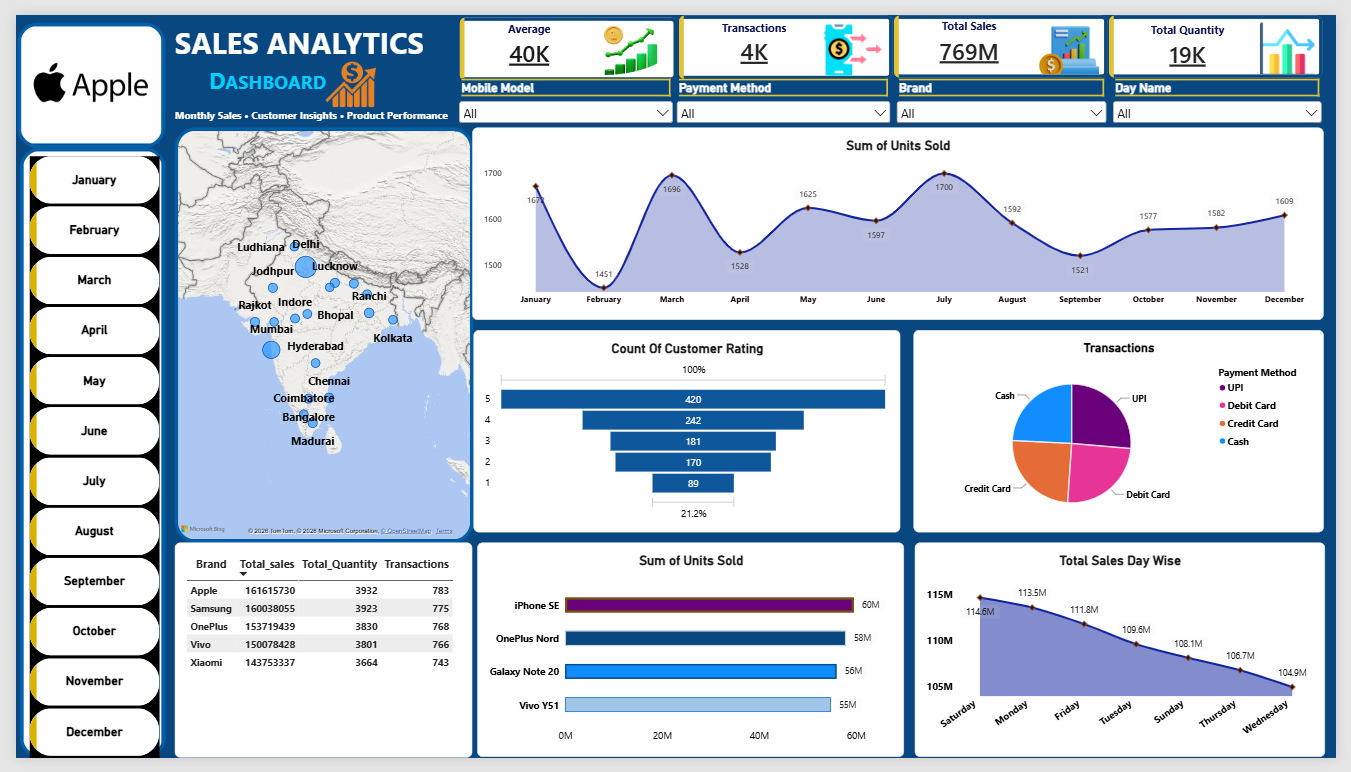

The page's visual inventory and layout, read from the dashboard file:
{"tool":"powerbi","page":{"name":"Page 1","canvas":[1920,1080],"ordinal":0},"visuals":[{"type":"shape","box":[1.7,10,215.4,182],"z":0},{"type":"shape","box":[5,192,212.1,888.3],"z":2000},{"type":"advancedSlicerVisual","fields":{"Values":["Sales_data.Date.Variation.Date Hierarchy.Month"]},"box":[20,205.4,188.7,875],"z":3000},{"type":"cardVisual","fields":{"Data":["Sales_data.Total_sales"]},"box":[1276.4,0,312.7,92.7],"z":4000},{"type":"cardVisual","fields":{"Data":["Sales_data.Total_Quantity"]},"box":[1589.1,0,312.7,92.7],"z":5000},{"type":"cardVisual","fields":{"Data":["Sales_data.Transactions"]},"box":[963.6,0,312.7,94.5],"z":6000},{"type":"cardVisual","fields":{"Data":["Sales_data.Average"]},"box":[643.6,1.8,316.4,92.7],"z":7000},{"type":"map","title":"Total Sales City","fields":{"Category":["Sales_data.City"],"Size":["Sales_data.Total_sales"]},"box":[218,157,434.5,603.6],"z":8000},{"type":"lineChart","title":"Sum of Units Sold ","fields":{"Category":["Sales_data.Date.Variation.Date Hierarchy.Month"],"Y":["Sum(Sales_data.Units Sold)"]},"box":[657.6,164,1238.2,280],"z":9000},{"type":"clusteredBarChart","title":"Sum of Units Sold ","fields":{"Category":["Sales_data.Mobile Model"],"Y":["Sales_data.Total_sales"]},"box":[661,767.4,620.9,312.2],"z":10000},{"type":"pieChart","title":"Transactions","fields":{"Category":["Sales_data.Payment Method"],"Y":["Sales_data.Transactions"]},"box":[1292.4,458.7,610.5,301.7],"z":11000},{"type":"funnel","title":"Count Of Customer Rating","fields":{"Category":["Sales_data.Customer Ratings"],"Y":["CountNonNull(Sales_data.Customer Ratings)"]},"box":[662.8,458.7,620.9,301.7],"z":12000},{"type":"areaChart","title":"Total Sales Day Wise","fields":{"Category":["Sales_data.Day Name"],"Y":["Sales_data.Total_sales"]},"box":[1292.4,767.4,608.7,312.2],"z":13000},{"type":"tableEx","fields":{"Values":["Sales_data.Brand","Sales_data.Total_sales","Sales_data.Total_Quantity","Sales_data.Transactions"]},"box":[219.8,767.4,432.7,312.7],"z":14000},{"type":"slicer","fields":{"Values":["Sales_data.Mobile Model"]},"box":[640,92.7,320,63.6],"z":15000},{"type":"slicer","fields":{"Values":["Sales_data.Payment Method"]},"box":[956.4,92.7,320,63.6],"z":16000},{"type":"slicer","fields":{"Values":["Sales_data.Brand"]},"box":[1276.4,92.7,314.5,63.6],"z":17000},{"type":"slicer","fields":{"Values":["Sales_data.Day Name"]},"box":[1590.9,92.7,312.7,63.6],"z":18000},{"type":"textbox","box":[230.9,10.9,409.1,152.7],"z":19000},{"type":"image","box":[409.1,50.9,156.4,100],"z":20000},{"type":"image","box":[14.5,0,189.1,198.2],"z":20001}]}

Visuals, with their boxes in screenshot pixels (x1, y1, x2, y2), scaled from the page's 1920x1080 canvas onto the 1351x772 screenshot:
shape: box(1, 7, 153, 137)
shape: box(4, 137, 153, 771)
advancedSlicerVisual - Sales_data.Date.Variation.Date Hierarchy.Month: box(14, 147, 147, 771)
cardVisual - Sales_data.Total_sales: box(898, 0, 1118, 66)
cardVisual - Sales_data.Total_Quantity: box(1118, 0, 1338, 66)
cardVisual - Sales_data.Transactions: box(678, 0, 898, 68)
cardVisual - Sales_data.Average: box(453, 1, 676, 68)
"Total Sales City" map: box(153, 112, 459, 544)
"Sum of Units Sold " lineChart: box(463, 117, 1334, 317)
"Sum of Units Sold " clusteredBarChart: box(465, 549, 902, 771)
"Transactions" pieChart: box(909, 328, 1339, 544)
"Count Of Customer Rating" funnel: box(466, 328, 903, 544)
"Total Sales Day Wise" areaChart: box(909, 549, 1338, 771)
tableEx - Sales_data.Brand x Sales_data.Total_sales: box(155, 549, 459, 771)
slicer - Sales_data.Mobile Model: box(450, 66, 676, 112)
slicer - Sales_data.Payment Method: box(673, 66, 898, 112)
slicer - Sales_data.Brand: box(898, 66, 1119, 112)
slicer - Sales_data.Day Name: box(1119, 66, 1339, 112)
textbox: box(162, 8, 450, 117)
image: box(288, 36, 398, 108)
image: box(10, 0, 143, 142)
